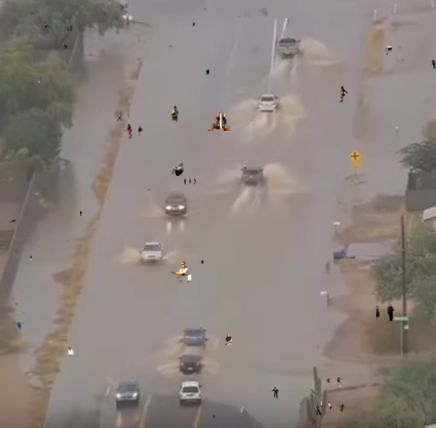Human: (205, 110, 230, 131), (170, 261, 192, 284), (315, 400, 345, 415), (371, 304, 395, 321), (147, 45, 176, 57), (124, 124, 143, 140), (169, 163, 184, 176), (326, 376, 343, 387), (114, 112, 129, 123), (339, 86, 348, 103), (171, 105, 179, 124), (32, 74, 42, 85), (270, 387, 279, 399), (12, 322, 25, 330), (184, 178, 196, 185), (225, 333, 232, 345), (68, 347, 74, 360), (385, 46, 392, 55), (206, 66, 212, 75), (431, 60, 436, 69), (63, 41, 67, 49), (67, 25, 72, 31), (44, 22, 48, 29), (9, 219, 16, 223), (243, 163, 246, 171), (30, 255, 32, 262), (193, 20, 195, 26), (201, 260, 204, 264), (212, 414, 215, 418), (67, 238, 69, 243), (104, 11, 106, 16), (80, 211, 82, 216), (317, 344, 319, 349), (112, 2, 117, 4)
